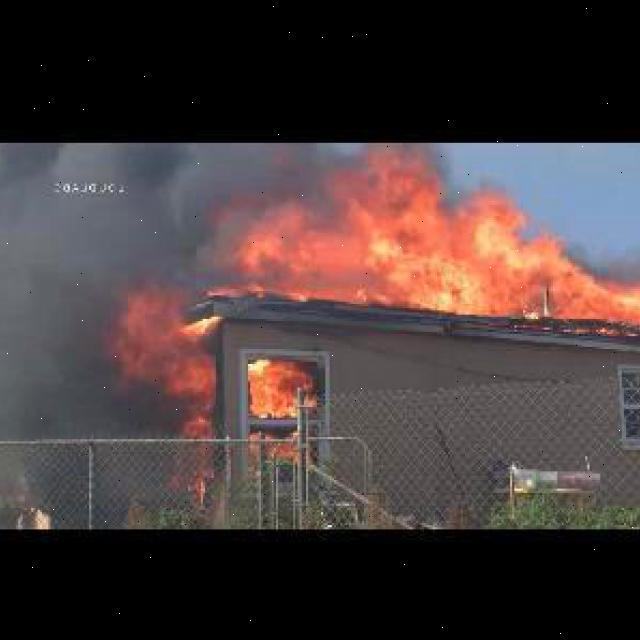fire: (130, 278, 229, 394), (242, 340, 328, 422)
smoke: (0, 145, 358, 293)
